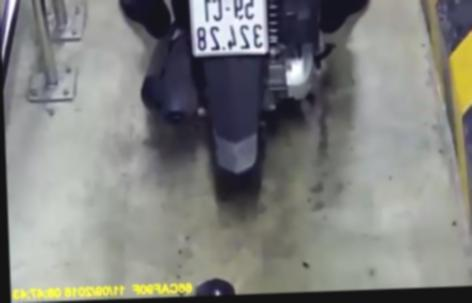License_Plate: (184, 0, 279, 64)
